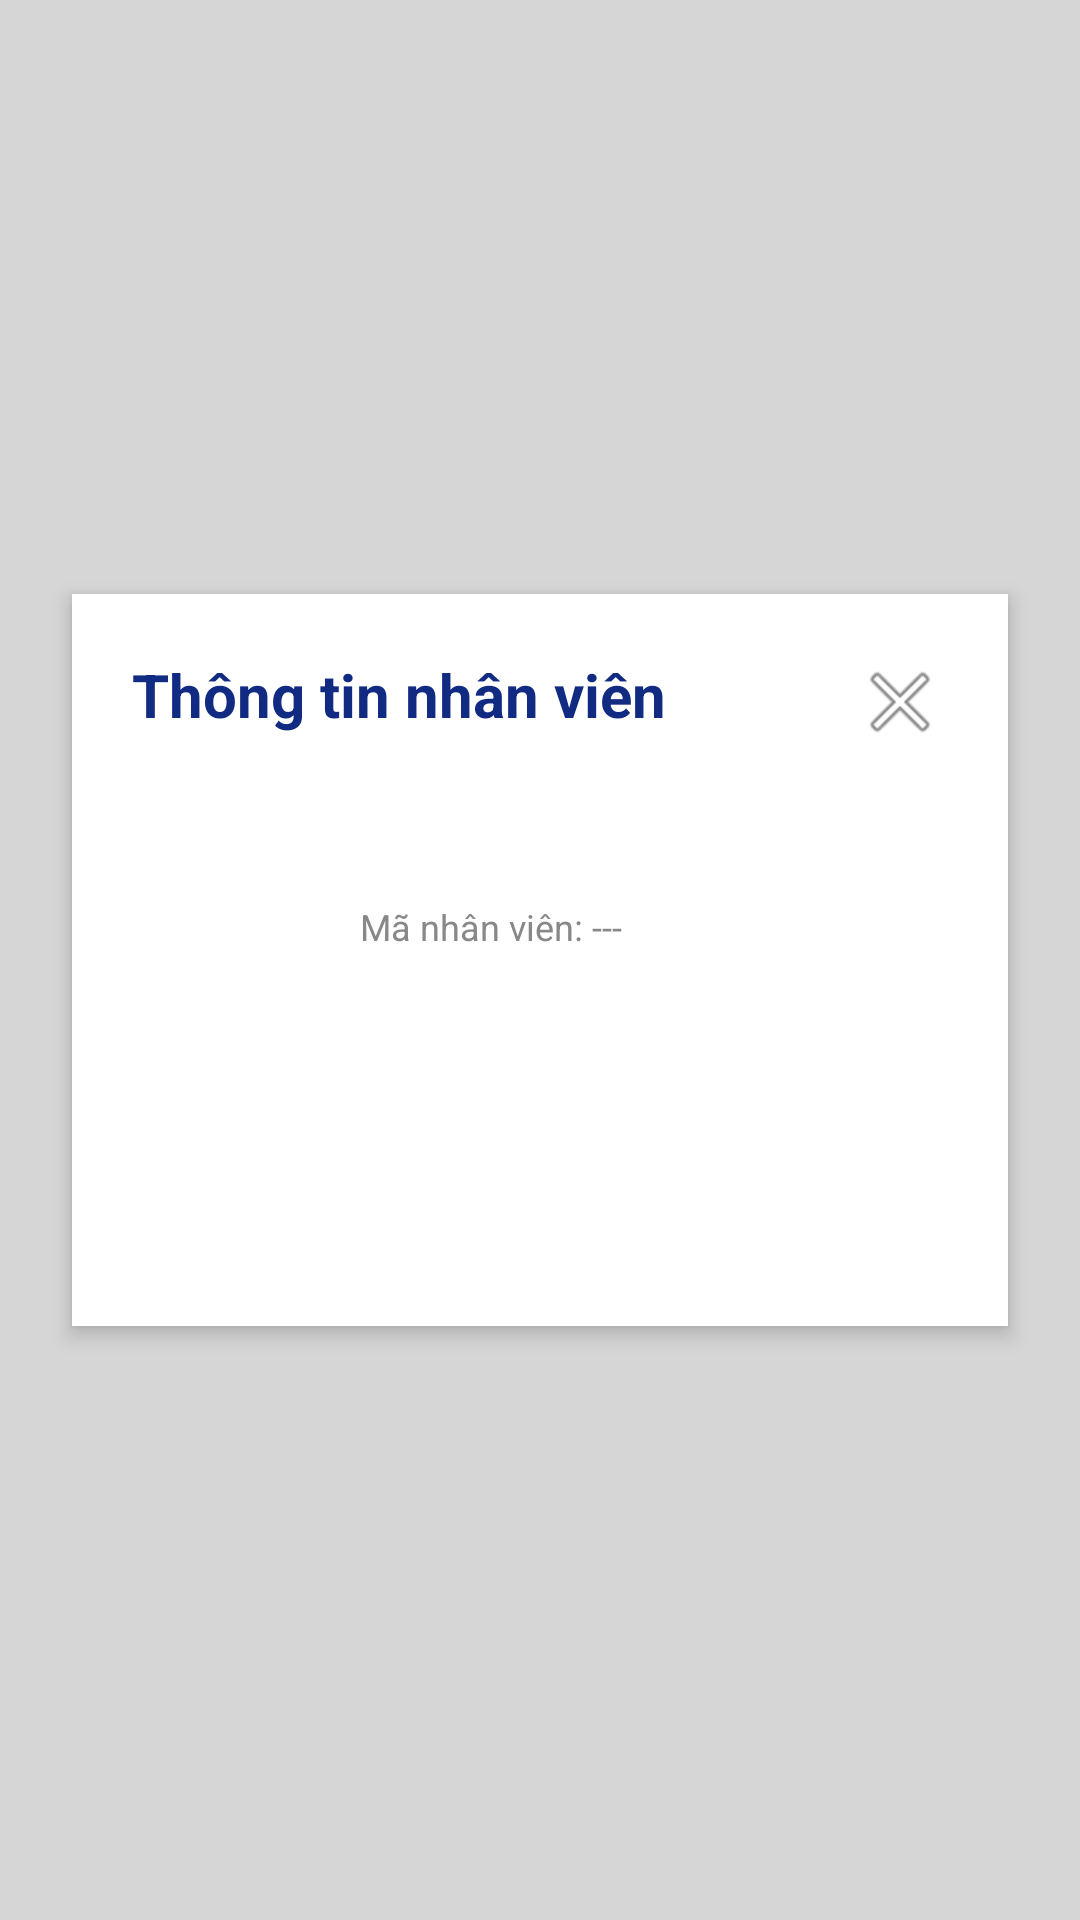

Screen size 1080px×1920px. Icon name, then its box in pixels as (x1, y1, x2, y2):
close clear cancel: (870, 672, 930, 732)
